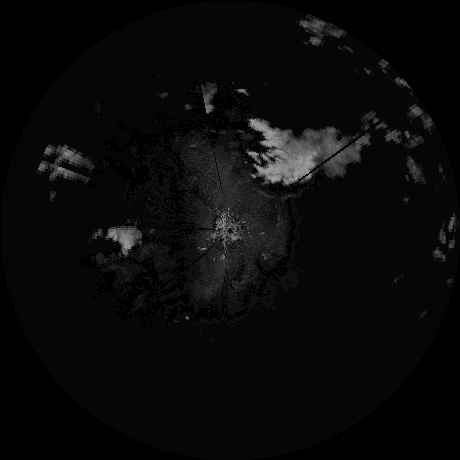frontgust: (254, 187, 307, 202)
